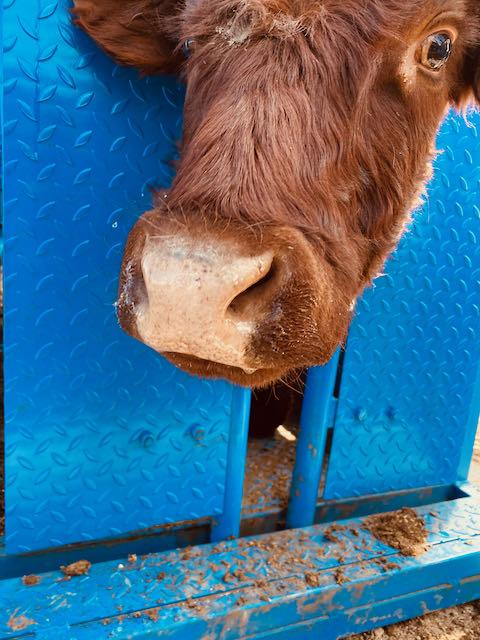muzzles: (94, 212, 318, 398)
